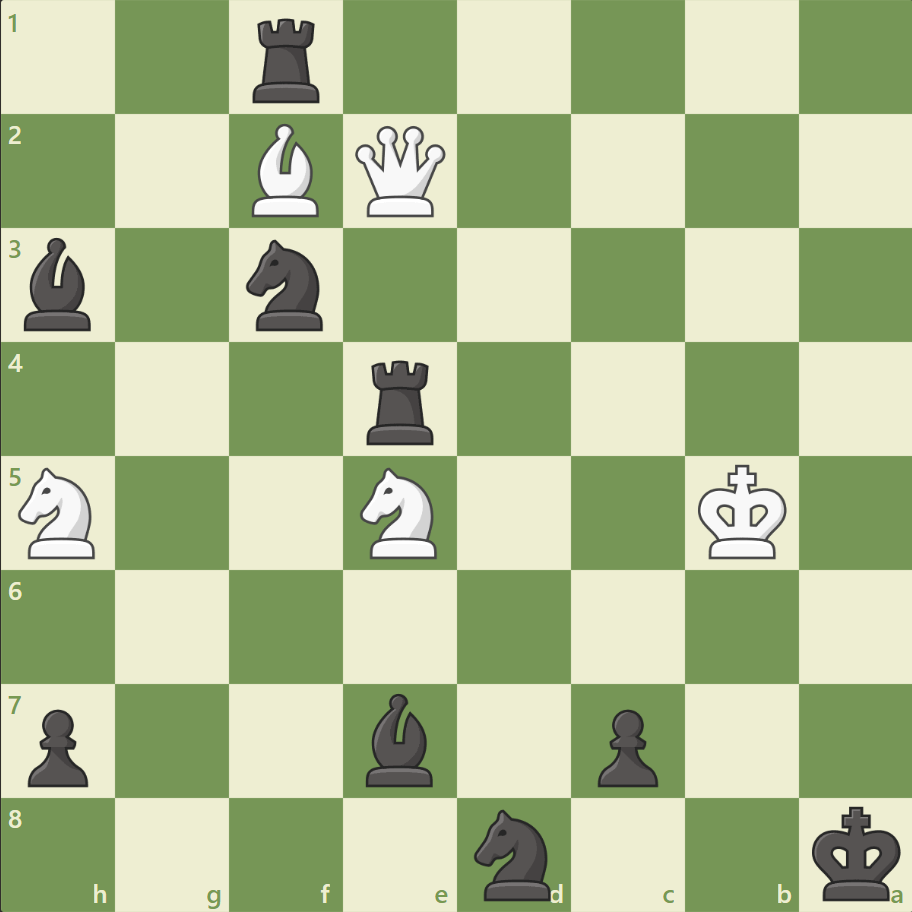B: (244, 120, 328, 222)
K: (692, 458, 792, 566)
N: (351, 461, 449, 564), (11, 461, 108, 564)
Q: (351, 122, 450, 222)
b: (358, 687, 442, 790), (17, 233, 101, 336)
k: (806, 798, 906, 906)
n: (238, 234, 335, 337), (465, 802, 562, 904)
p: (20, 700, 95, 791), (588, 700, 662, 791)
r: (246, 12, 329, 109), (360, 352, 442, 449)
